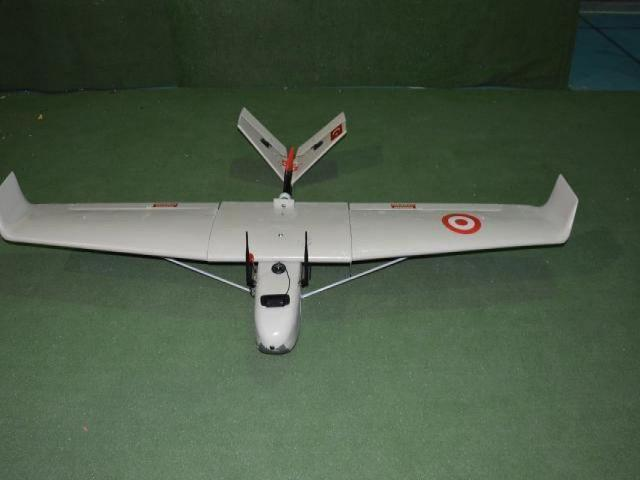iha: (1, 101, 600, 356)
